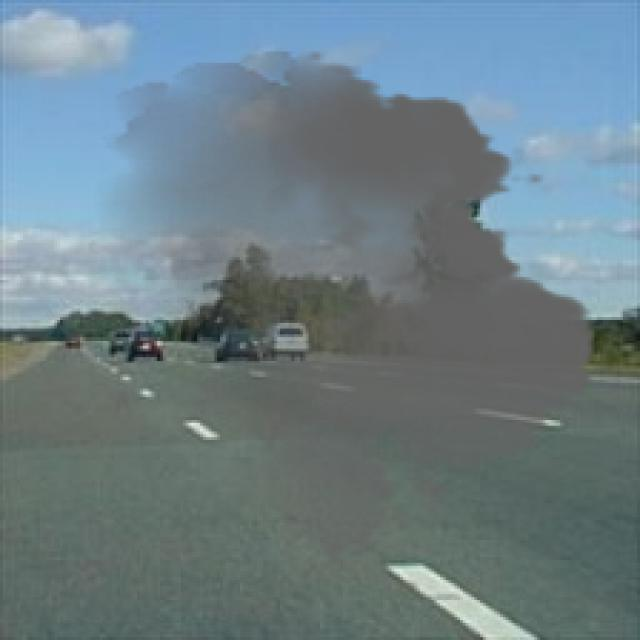Smoke: (88, 51, 614, 572)
